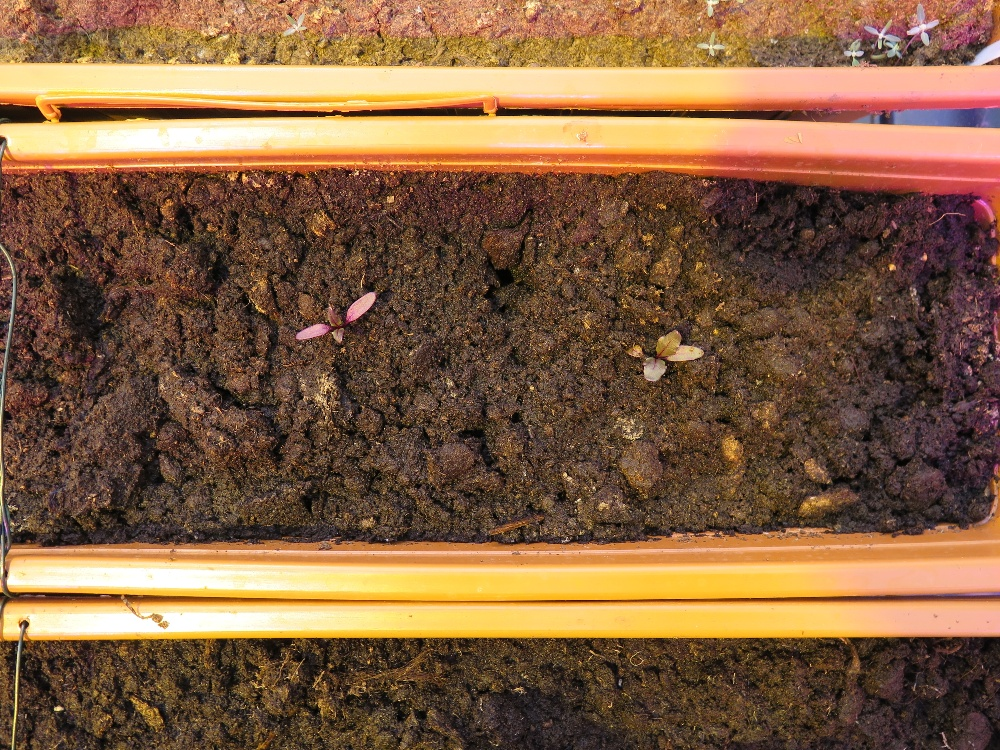crop: (290, 287, 378, 365)
weed: (905, 2, 940, 47), (695, 30, 726, 57), (280, 11, 308, 38)
